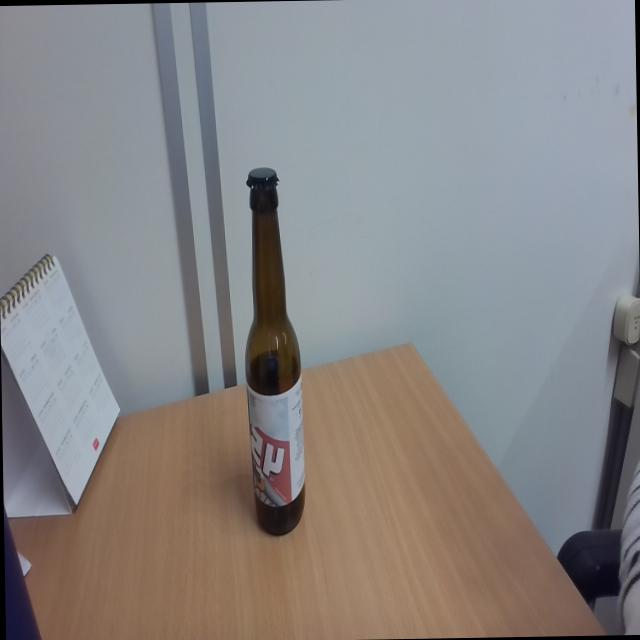Bottle: (242, 167, 304, 530)
Cap: (243, 163, 282, 193)
Label: (247, 386, 304, 508)
